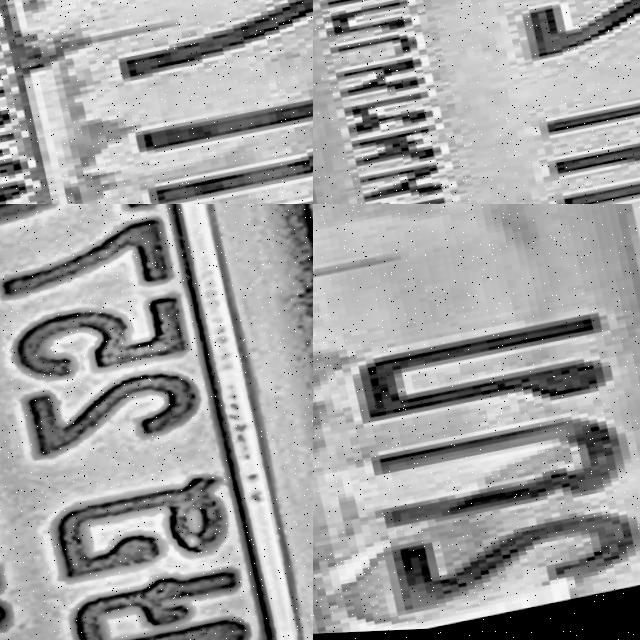license-plate: (313, 204, 640, 640), (0, 204, 313, 640), (313, 0, 640, 204), (0, 0, 313, 204)
